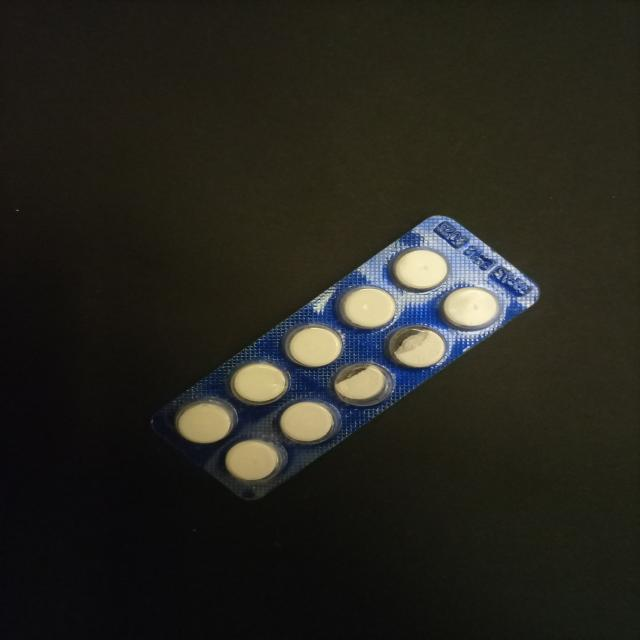defect: (332, 360, 393, 408), (386, 323, 449, 368)
